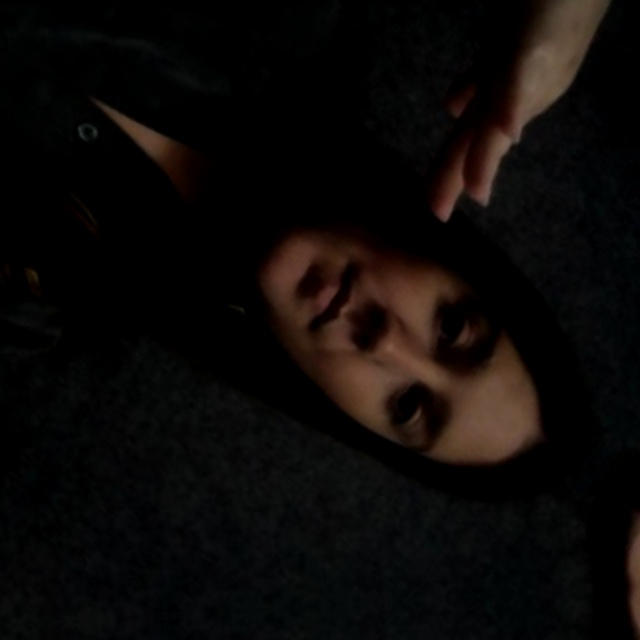Paper: (348, 0, 631, 264)
